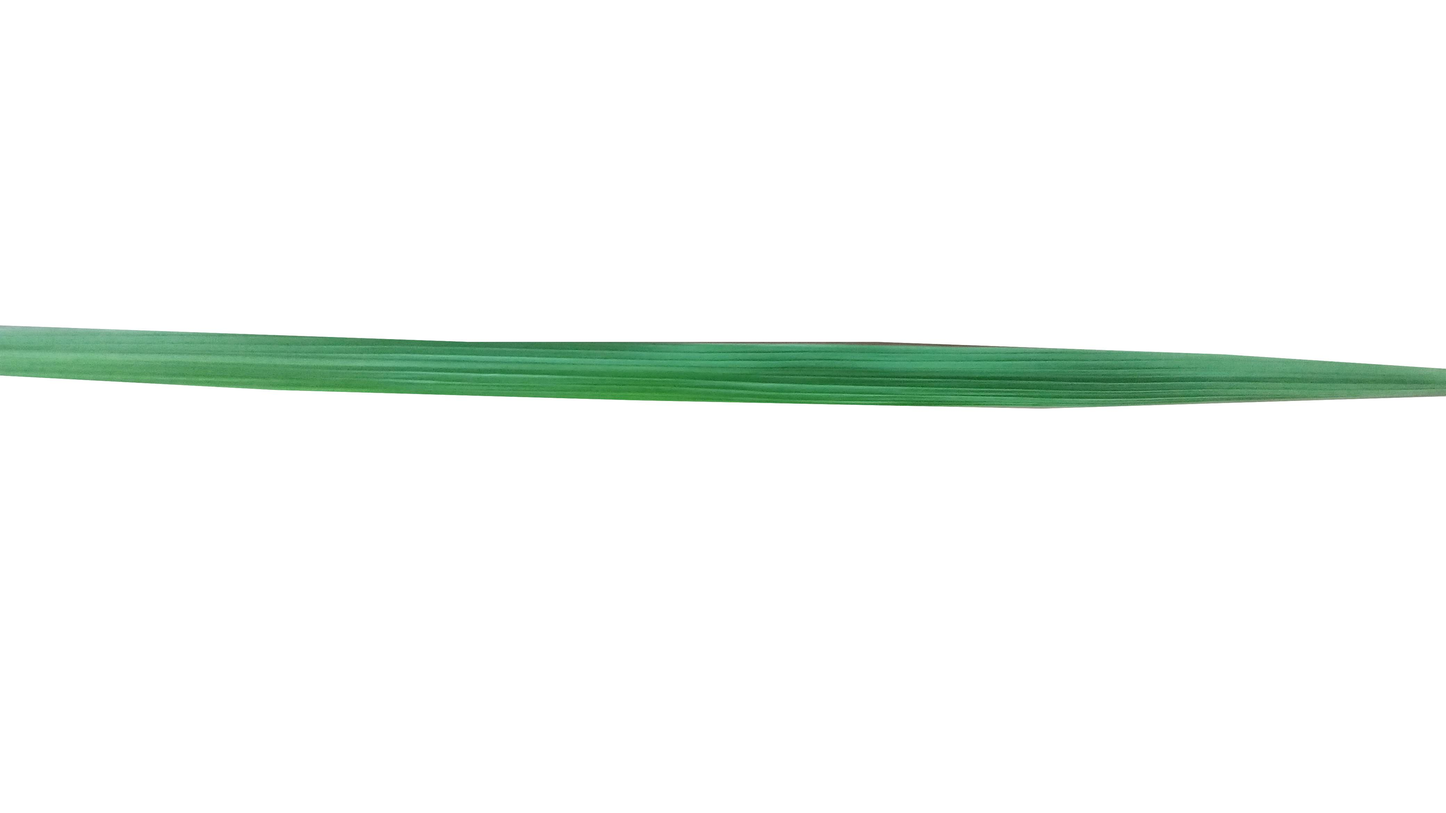Healthy: (0, 326, 1446, 411)
